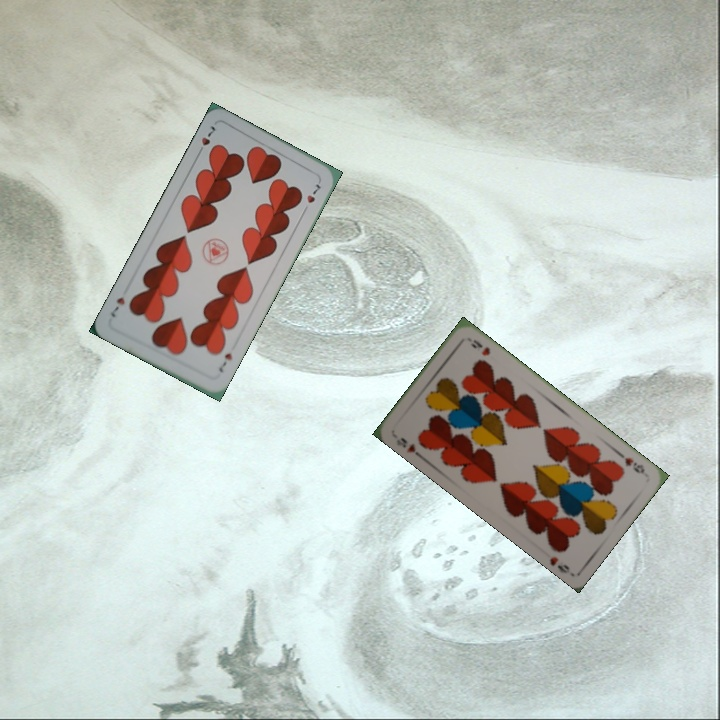H7: (193, 121, 218, 158), (214, 349, 235, 375)
H9: (392, 434, 425, 461), (620, 453, 649, 478)
